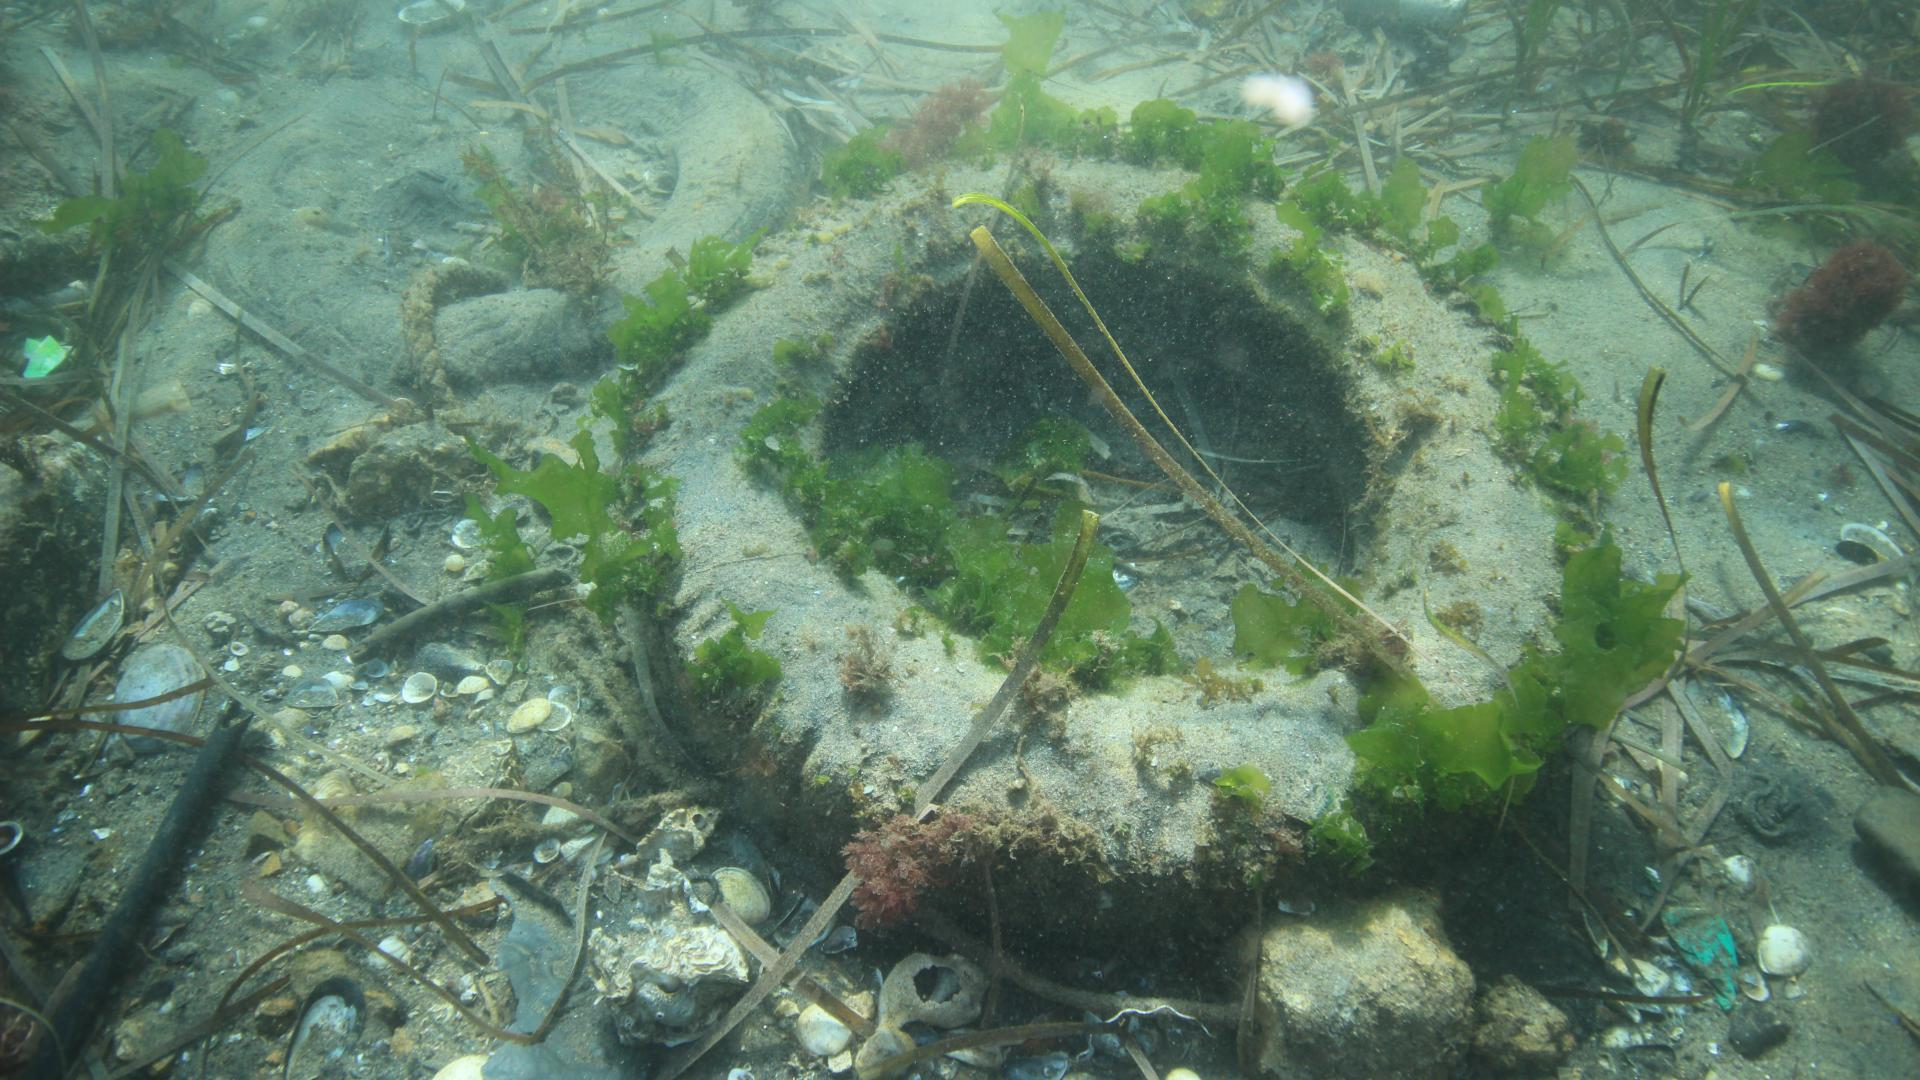rope: (400, 255, 506, 429)
tire: (622, 146, 1597, 963)
